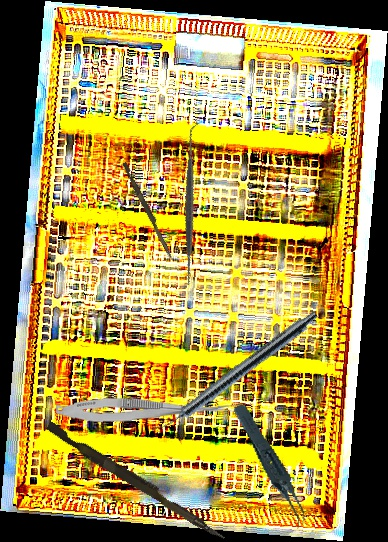Handpiece: (150, 305, 321, 441)
Micro Scissor: (55, 392, 237, 425)
Pusher: (43, 421, 230, 542), (119, 161, 178, 262)
Spatula Surgical: (107, 123, 273, 290)
Tissue Forceps: (232, 396, 308, 538)
